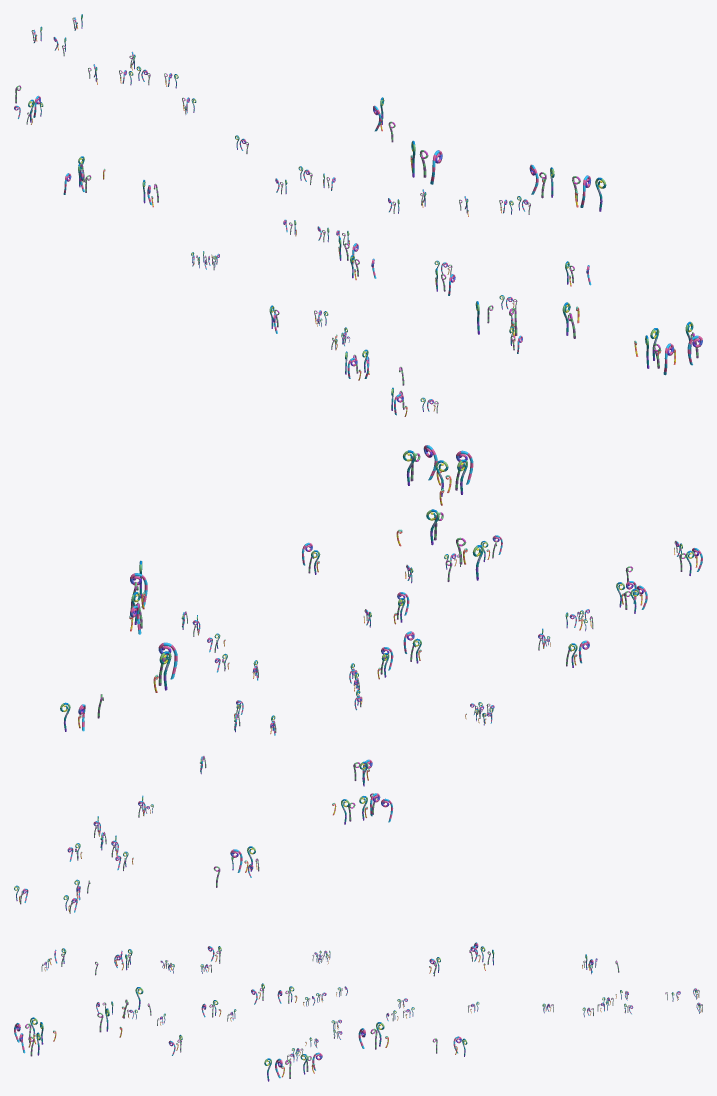
Rendered from plantI.fbx.
3 renders of one model, top to bottom at view 1: azimuth 30°, elevation 25°; view 2: azimuth 150°, elevation 25°; view 3: azimuth 270°, elevation 25°, orthographic. The views are drawn at different scales.
Visible parts, largest first — view 1: plantI; view 2: plantI; view 3: plantI.
Boxes of the visible parts, x1=… form: plantI: x1=14, y1=14, x2=702, y2=416; plantI: x1=14, y1=445, x2=702, y2=913; plantI: x1=14, y1=942, x2=702, y2=1081.
Size of the model in its own units: 2160 by 203 by 4881.
